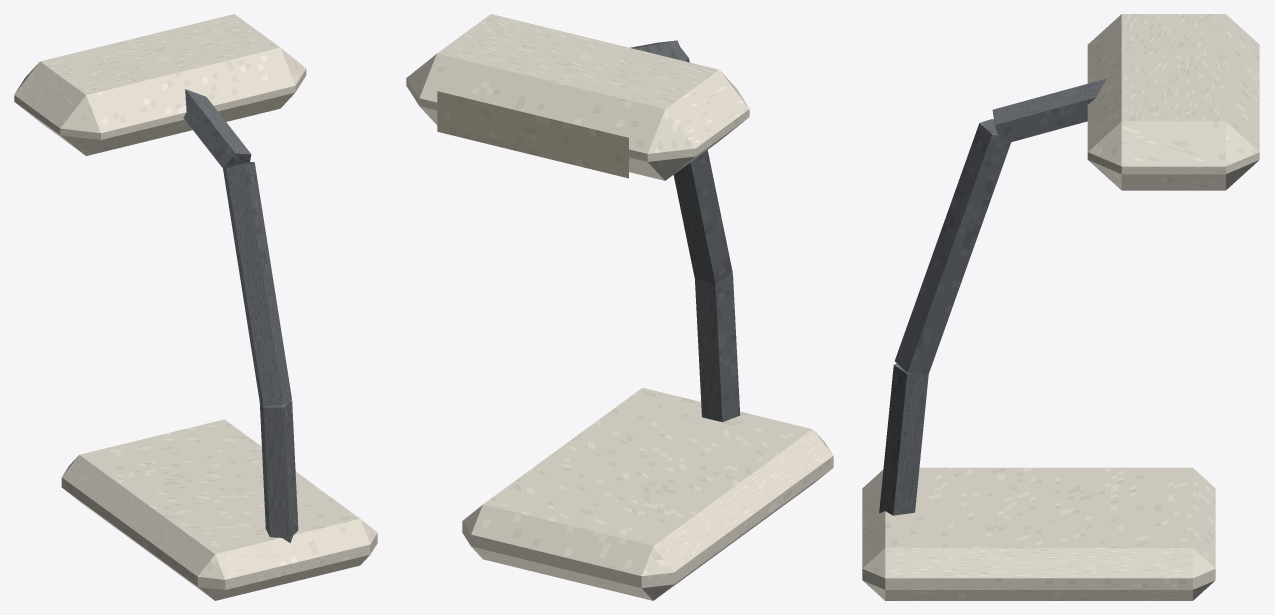
The model's file is reading_light.glb.
3 views of the same model, side by side, from view 1: azimuth 30°, elevation 25°; view 2: azimuth 150°, elevation 25°; view 3: azimuth 270°, elevation 25° (orthographic). The views are drawn at different scales.
Visible parts, largest first — view 1: block_spring clip base, block_book light head, block_flexible light neck 1, block_flexible light neck 0, block_flexible light neck 2; view 2: block_spring clip base, block_book light head, block_clear light window, block_flexible light neck 0, block_flexible light neck 1, block_flexible light neck 2; view 3: block_spring clip base, block_book light head, block_flexible light neck 1, block_flexible light neck 0, block_flexible light neck 2.
Part boxes in pixels (x1,y1,x2,y2): block_spring clip base: (61, 419, 377, 600); block_book light head: (14, 14, 306, 155); block_flexible light neck 1: (223, 162, 291, 406); block_flexible light neck 0: (259, 400, 298, 543); block_flexible light neck 2: (183, 89, 251, 170); block_spring clip base: (462, 387, 833, 600); block_book light head: (406, 14, 749, 180); block_clear light window: (437, 91, 628, 178); block_flexible light neck 0: (695, 273, 740, 422); block_flexible light neck 1: (673, 48, 732, 283); block_flexible light neck 2: (630, 40, 686, 61); block_spring clip base: (862, 467, 1215, 600); block_book light head: (1087, 14, 1259, 190); block_flexible light neck 1: (895, 119, 1010, 374); block_flexible light neck 0: (879, 363, 928, 515); block_flexible light neck 2: (992, 78, 1106, 144).
Size of the model in its own units: 0.0598 by 0.101 by 0.0739.
Materials: 1 (1 with a texture image).
